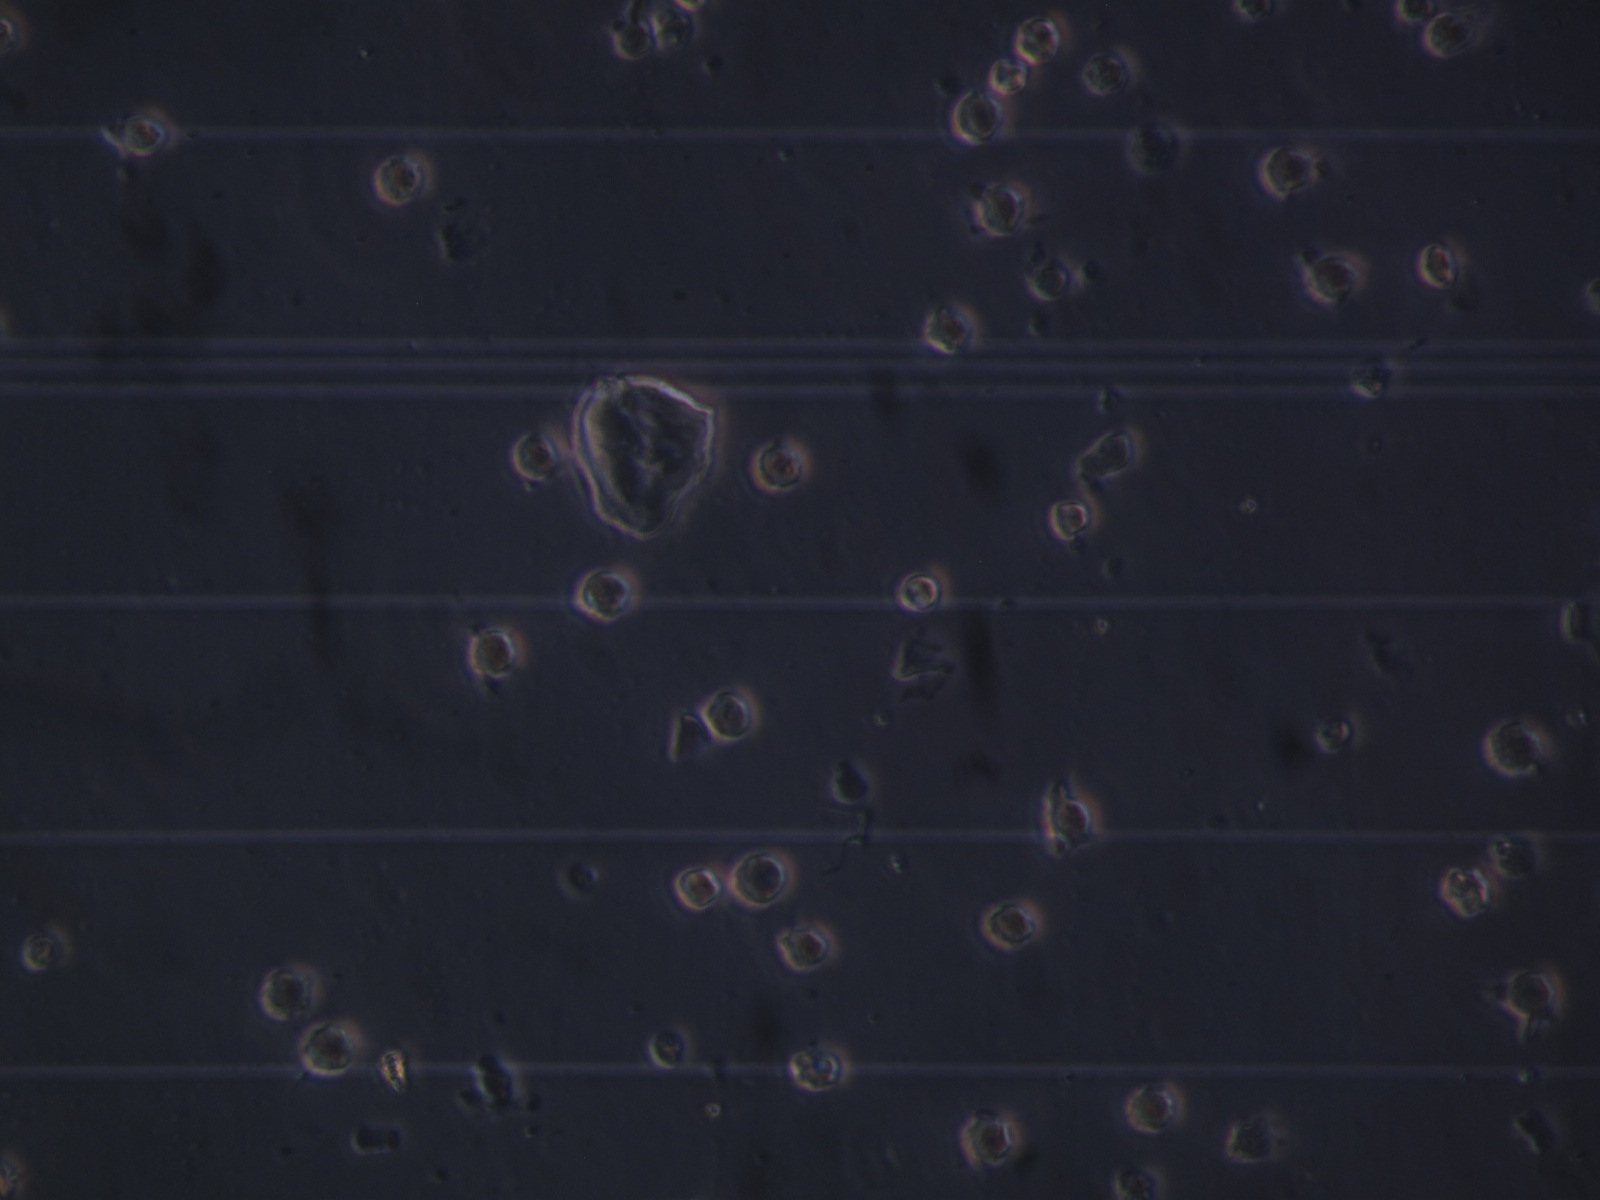hemo: (295, 1016, 367, 1082), (726, 846, 797, 910), (574, 557, 643, 624), (1124, 112, 1191, 176), (949, 84, 1017, 147), (747, 431, 813, 495), (260, 962, 323, 1024), (511, 422, 573, 484), (118, 100, 180, 160), (372, 150, 433, 211), (976, 175, 1036, 238), (700, 686, 763, 745), (466, 623, 527, 683), (1080, 40, 1141, 100), (1015, 8, 1073, 71), (1483, 718, 1546, 776), (1303, 250, 1368, 305), (1255, 144, 1319, 198), (1121, 1082, 1187, 1133), (894, 562, 952, 620), (981, 897, 1043, 952), (923, 300, 983, 355), (777, 918, 837, 973), (20, 916, 74, 976), (963, 1111, 1023, 1163), (789, 1042, 850, 1093), (1415, 234, 1468, 291), (1026, 251, 1081, 304), (1425, 13, 1482, 63), (1489, 828, 1543, 880), (1228, 1112, 1280, 1163), (673, 862, 726, 913), (1440, 866, 1490, 919), (1506, 969, 1557, 1018), (981, 55, 1037, 100), (1094, 431, 1141, 478), (1051, 499, 1104, 539), (648, 1024, 692, 1070), (611, 18, 656, 62), (1560, 597, 1599, 647), (1317, 713, 1362, 753), (1057, 799, 1092, 834), (1233, 1, 1285, 24), (1395, 1, 1435, 26)
